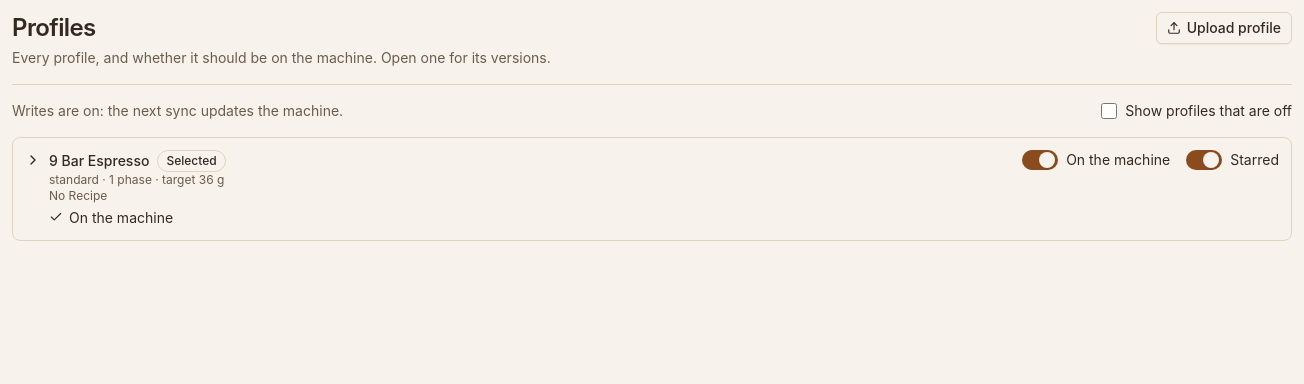
Test: the two switches › says the machine will select another profile first when the selected one is switched off
Click the switch named "9 Bar Espresso on the machine": (1040,160) x1=1022 y1=150 x2=1058 y2=170
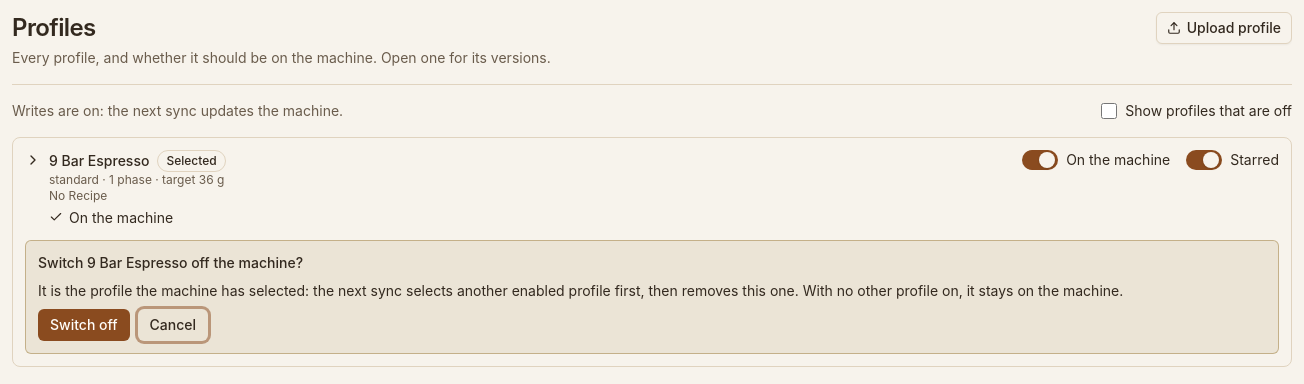
Result: the text with test id "switch-off-selected" shows "It is the profile the machine has selected: the next sync selects another enabled profile first, then removes this one. With no other profile on, it stays on th" at x1=38 y1=282 x2=1123 y2=299
